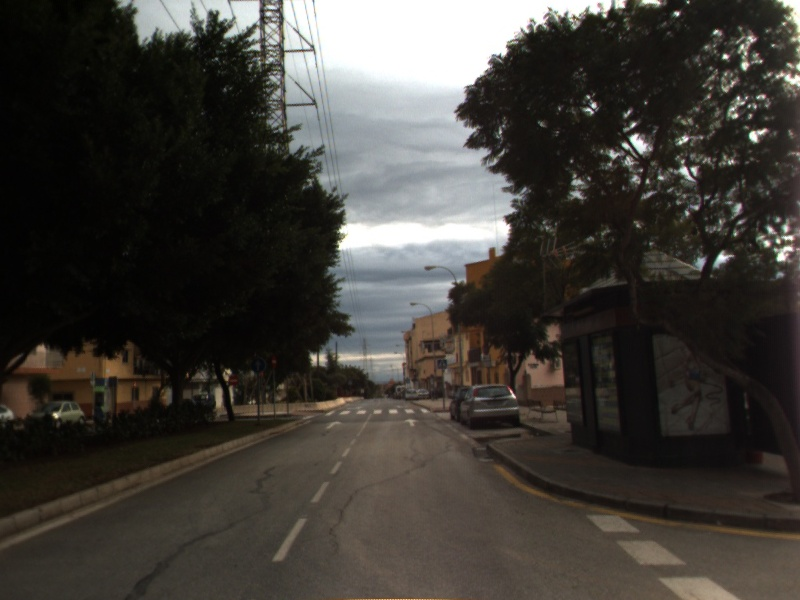STRAIGHT: (322, 419, 345, 431), (402, 416, 421, 428)
